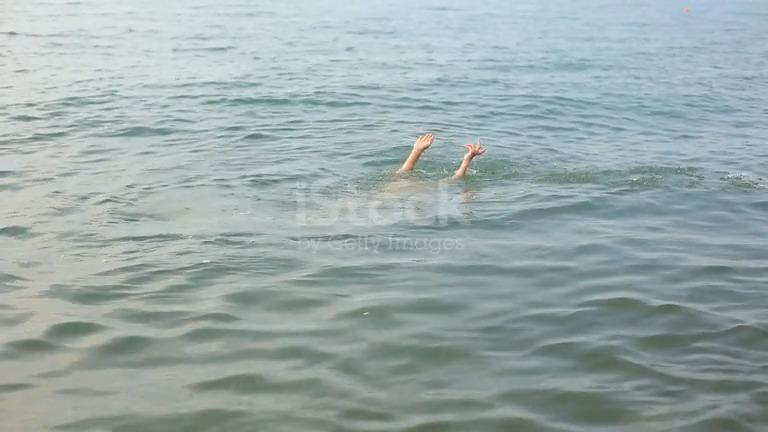Drowning: (219, 77, 550, 236)
